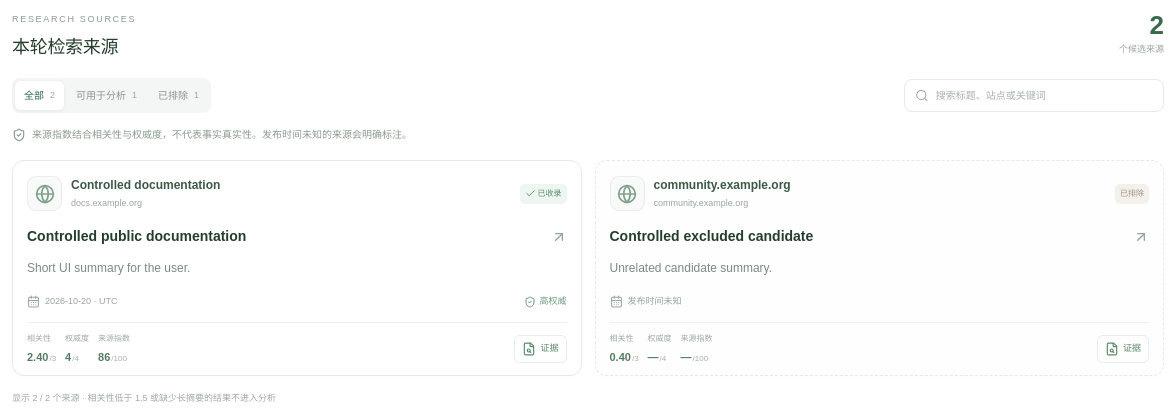
Test: status and keyword filters work together and can reset an empty result
This screenshot has width=1176, height=419.
Check: the number of elements with class "source-card" is 2, box [12,160,582,376]; [594,160,1164,376]
Click the button "已排除 1": (178, 96) [149,81,208,110]
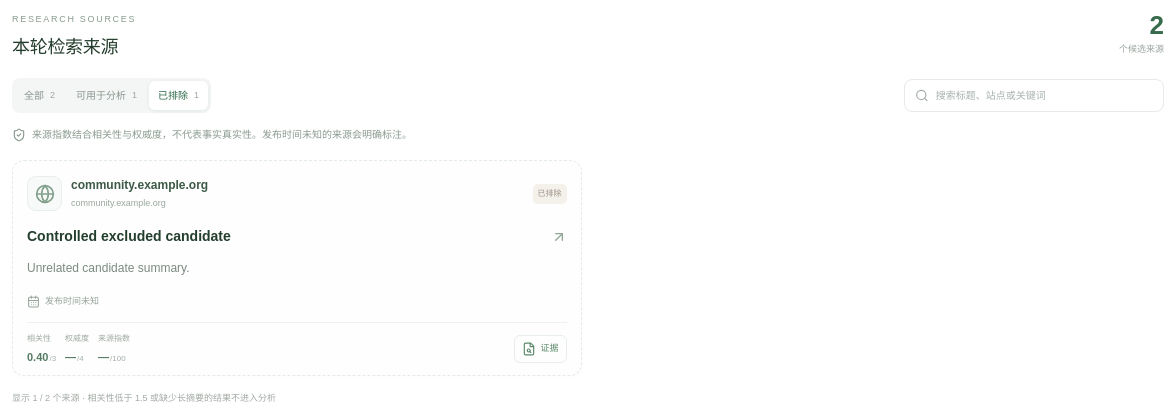
Check: the number of elements with class "source-card" is 1, box [12,160,582,376]
In the field named "搜索来源": (1044, 96) [936,88,1153,103], type "docs.example.org"
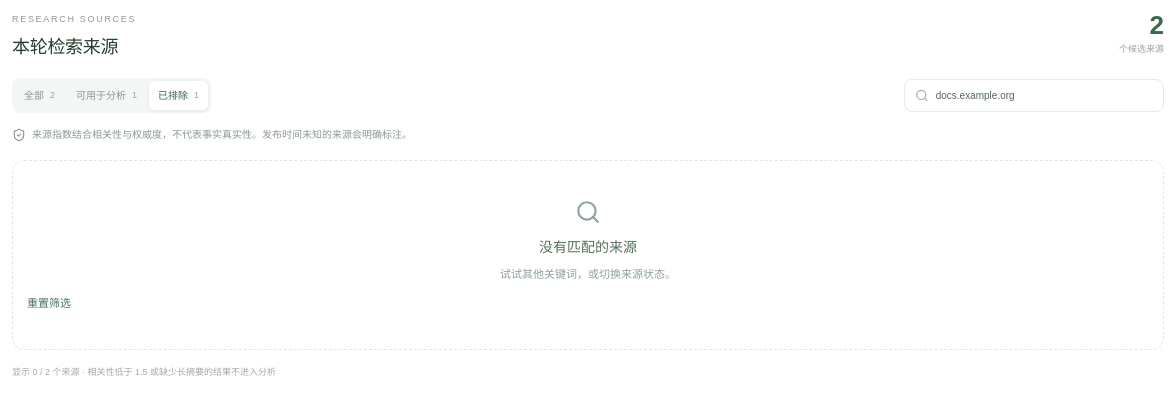
Check: the heading "没有匹配的来源" is shown, box [539,239,637,255]
Click the button "重置筛选": (49, 303) [27,294,71,311]
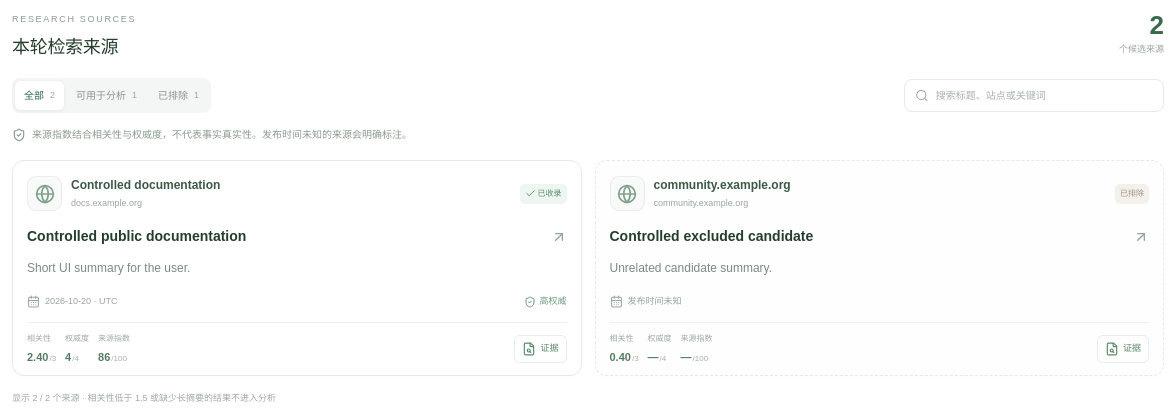
Check: the number of elements with class "source-card" is 2, box [12,160,582,376]; [594,160,1164,376]
In the field named "搜索来源": (1044, 96) [936,88,1153,103], type "DOCUMENTATION"
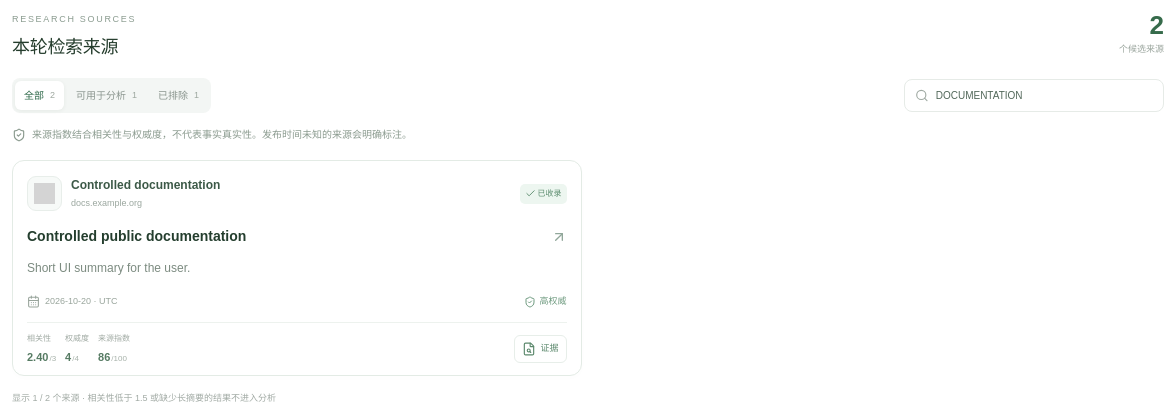
Check: the number of elements with class "source-card" is 1, box [12,160,582,376]
